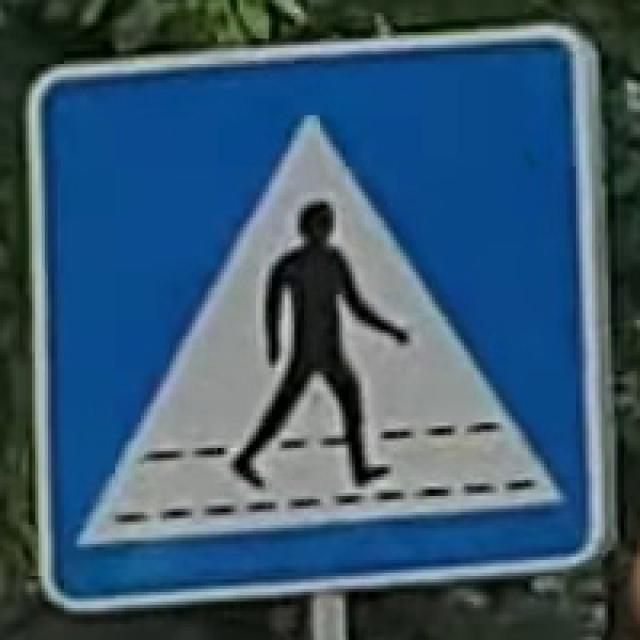zebracrossing_sign: (19, 19, 618, 611)
